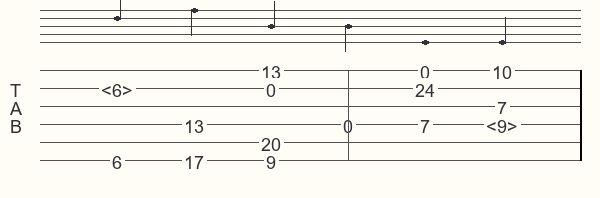0: (266, 80, 280, 97), (343, 116, 357, 133), (420, 62, 434, 79)
10: (492, 62, 516, 79)
13: (184, 116, 208, 133), (261, 62, 285, 79)
17: (184, 152, 208, 169)
20: (261, 134, 285, 151)
24: (415, 80, 439, 97)
6: (112, 152, 126, 169)
7: (420, 116, 434, 133), (497, 98, 511, 115)
9: (266, 152, 280, 169)
harmonic: (101, 80, 137, 97), (486, 116, 522, 133)
